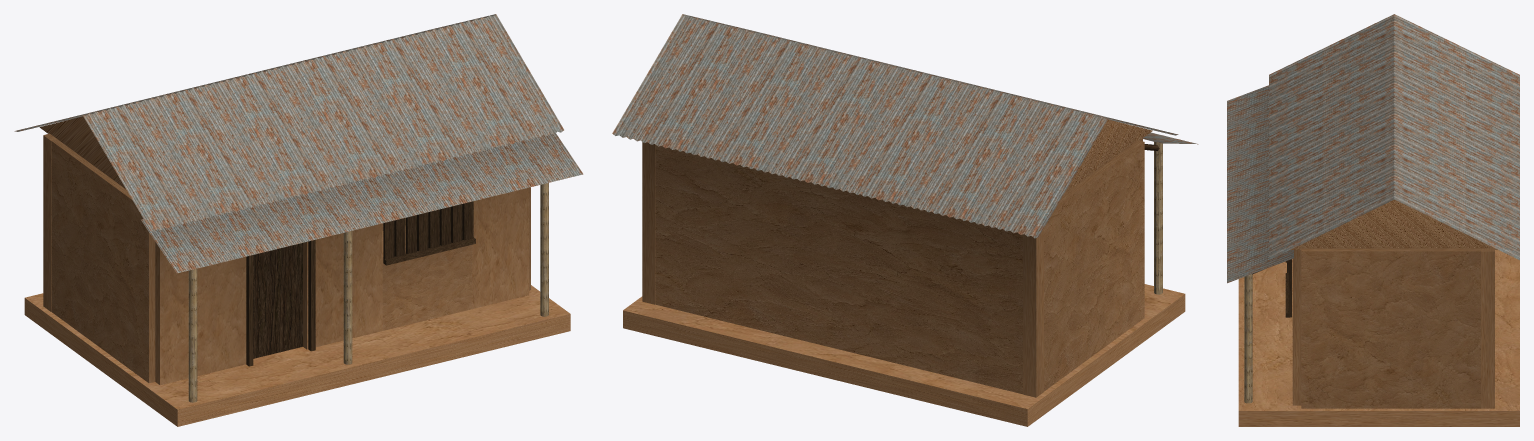
File: prop_house.glb
3 views of the same model, side by side, from view 1: azimuth 30°, elevation 25°; view 2: azimuth 150°, elevation 25°; view 3: azimuth 270°, elevation 25° (orthographic). The views are drawn at different scales.
Parts seen in each view (by area): view 1: prop_house; view 2: prop_house; view 3: prop_house.
Part boxes in pixels (x1,y1,x2,y2): prop_house: (14, 14, 583, 426); prop_house: (612, 14, 1198, 426); prop_house: (1227, 14, 1519, 426).
Bounding box in the file's own units: 6 × 3.5 × 4.
Materials: 4 (4 with a texture image).
